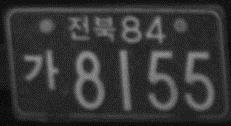1: (116, 49, 134, 112)
4: (144, 15, 166, 45)
5: (147, 48, 178, 112), (183, 48, 214, 112)
8: (73, 49, 105, 110), (119, 13, 143, 44)
가: (24, 48, 61, 91)
전북_O: (67, 13, 116, 43)
